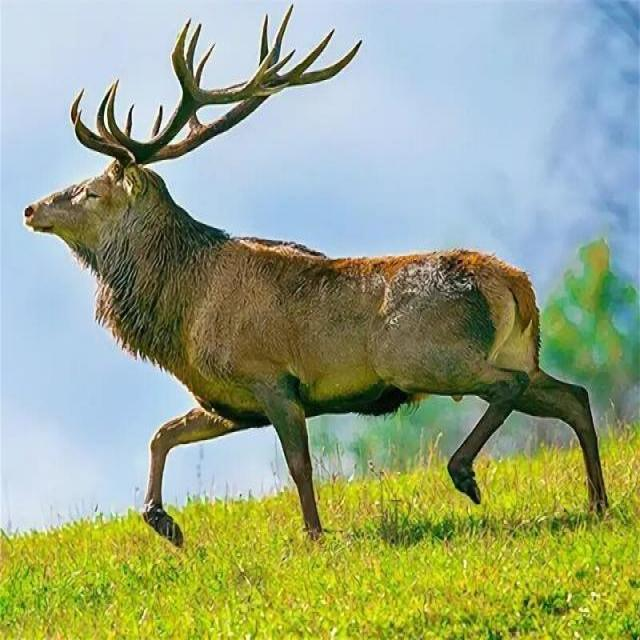deer: (91, 79, 575, 605)
